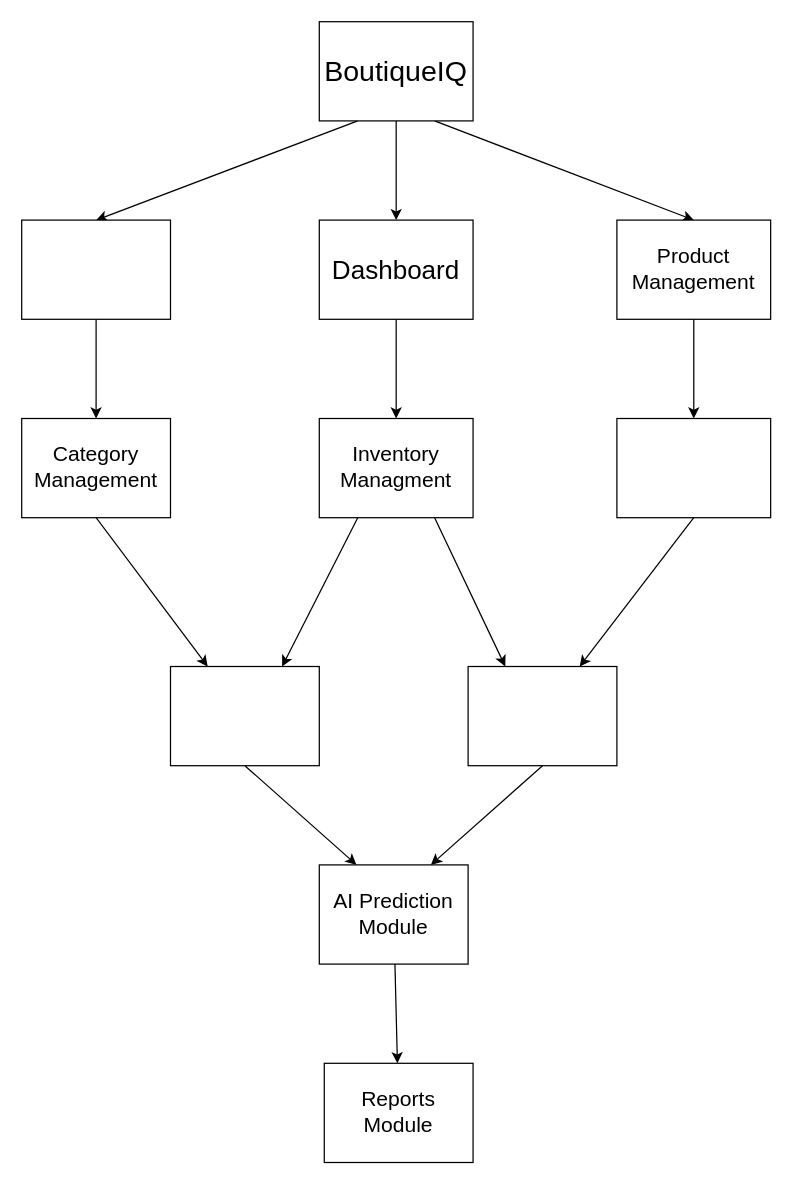
The diagram is 792 pixels wide and 1184 high, and some of its shapes have lost their labels. The shapes that lost their labels are listed below. From the top down, each one's box as (x1, y1, x2, y2) in pixels, then its label:
(20, 219, 170, 319): Authentication
(616, 417, 771, 518): Supplier Management
(169, 665, 319, 766): Customer Management
(467, 665, 617, 766): Sales Management
